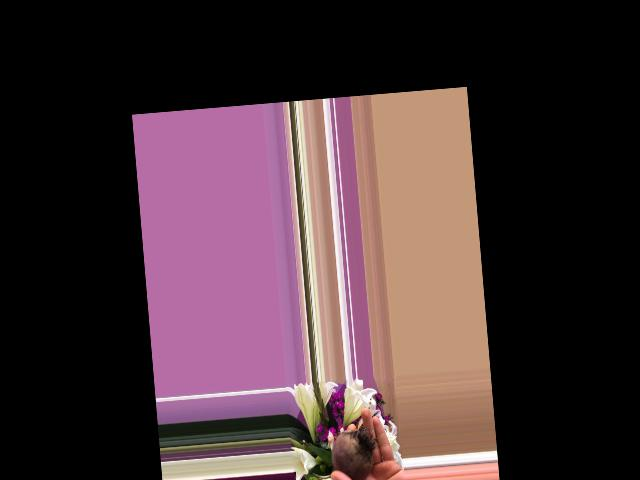beet: (309, 426, 376, 480)
